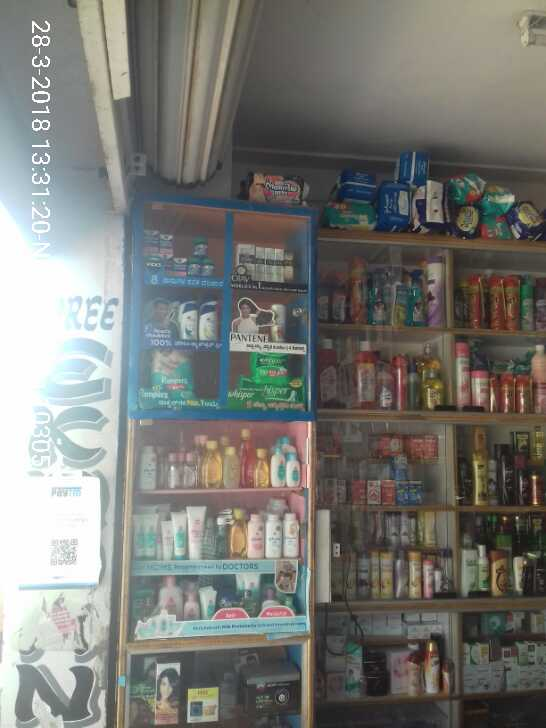vicks: (144, 226, 187, 276), (189, 230, 214, 278)
